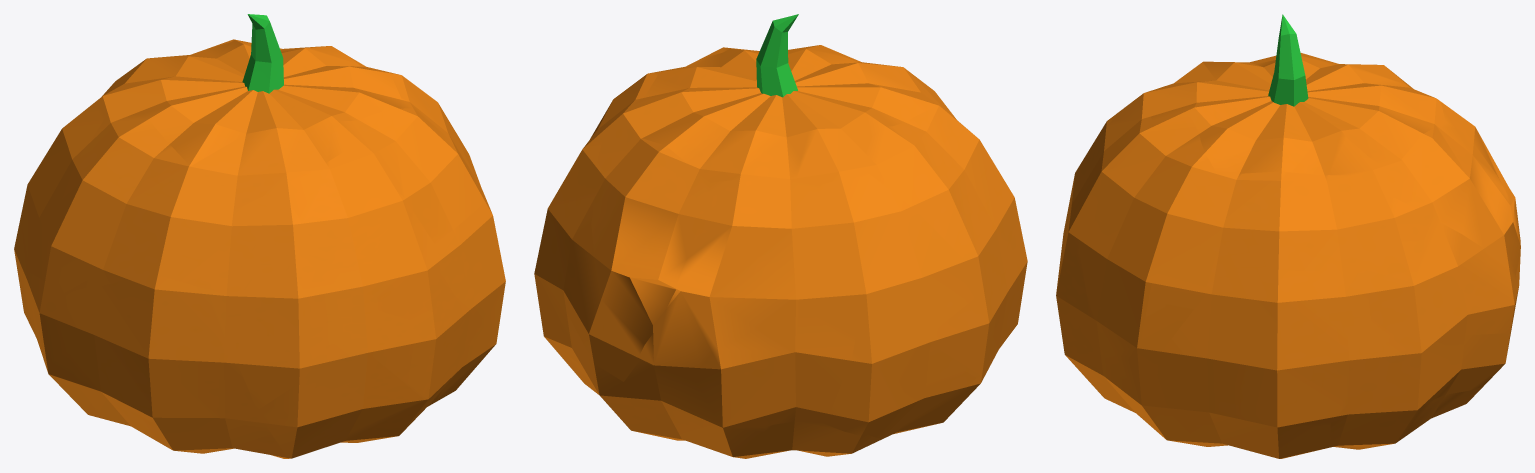
File: Abobora_03_Root.fbx
3 views of the same model, side by side, from view 1: azimuth 30°, elevation 25°; view 2: azimuth 150°, elevation 25°; view 3: azimuth 270°, elevation 25° (orthographic). The views are drawn at different scales.
Parts seen in each view (by area): view 1: Abobora_03_frag_014, Abobora_03_frag_020, Abobora_03_frag_035, Abobora_03_frag_040, Abobora_03_frag_029, Abobora_03_frag_009, Abobora_03_frag_016, Abobora_03_frag_027, Abobora_03_frag_036, Abobora_03_frag_007, Abobora_03_frag_026, Abobora_03_frag_033 (+11 smaller); view 2: Abobora_03_frag_025, Abobora_03_frag_026, Abobora_03_frag_006, Abobora_03_frag_027, Abobora_03_frag_003, Abobora_03_frag_040, Abobora_03_frag_030, Abobora_03_frag_009, Abobora_03_frag_017, Abobora_03_frag_041, Abobora_03_frag_005, Abobora_03_frag_033 (+9 smaller); view 3: Abobora_03_frag_032, Abobora_03_frag_015, Abobora_03_frag_030, Abobora_03_frag_016, Abobora_03_frag_006, Abobora_03_frag_027, Abobora_03_frag_033, Abobora_03_frag_037, Abobora_03_frag_039, Abobora_03_frag_007, Abobora_03_frag_023, Abobora_03_frag_009 (+9 smaller).
Part boxes in pixels (box(x1,y1,x2,y2)): Abobora_03_frag_014: box(57, 275, 257, 422); Abobora_03_frag_020: box(207, 190, 348, 410); Abobora_03_frag_035: box(257, 274, 472, 458); Abobora_03_frag_040: box(46, 113, 216, 297); Abobora_03_frag_029: box(277, 152, 440, 325); Abobora_03_frag_009: box(142, 94, 343, 210); Abobora_03_frag_016: box(339, 107, 485, 244); Abobora_03_frag_027: box(122, 40, 314, 100); Abobora_03_frag_036: box(57, 202, 232, 297); Abobora_03_frag_007: box(435, 202, 505, 329); Abobora_03_frag_026: box(20, 101, 104, 281); Abobora_03_frag_033: box(298, 46, 412, 120); Abobora_03_frag_025: box(640, 179, 819, 380); Abobora_03_frag_026: box(806, 171, 984, 332); Abobora_03_frag_006: box(591, 129, 710, 354); Abobora_03_frag_027: box(623, 77, 842, 182); Abobora_03_frag_003: box(695, 300, 856, 427); Abobora_03_frag_040: box(865, 105, 996, 293); Abobora_03_frag_030: box(537, 139, 639, 381); Abobora_03_frag_009: box(789, 48, 943, 139); Abobora_03_frag_017: box(622, 360, 765, 458); Abobora_03_frag_041: box(867, 290, 996, 439); Abobora_03_frag_005: box(821, 329, 932, 435); Abobora_03_frag_033: box(617, 48, 802, 129); Abobora_03_frag_032: box(1154, 270, 1371, 422); Abobora_03_frag_015: box(1200, 171, 1390, 272); Abobora_03_frag_030: box(1365, 196, 1518, 337); Abobora_03_frag_016: box(1092, 112, 1216, 269); Abobora_03_frag_006: box(1387, 121, 1520, 285); Abobora_03_frag_027: box(1251, 67, 1445, 173); Abobora_03_frag_033: box(1188, 107, 1387, 178); Abobora_03_frag_037: box(1349, 329, 1511, 409); Abobora_03_frag_039: box(1155, 374, 1330, 458); Abobora_03_frag_007: box(1080, 230, 1152, 360); Abobora_03_frag_023: box(1130, 243, 1232, 372); Abobora_03_frag_009: box(1137, 56, 1317, 120).
Bounding box in the file's own units: 22.76 × 20.05 × 22.04.
